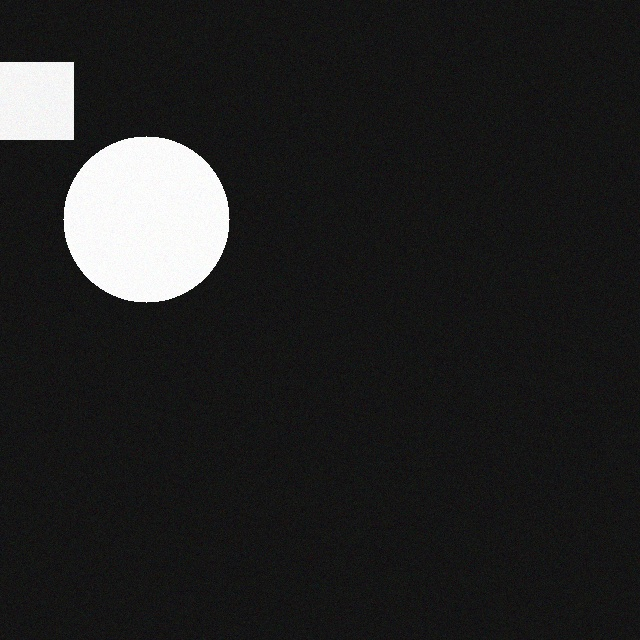circle: (78, 147, 244, 313)
square: (11, 73, 88, 150)
